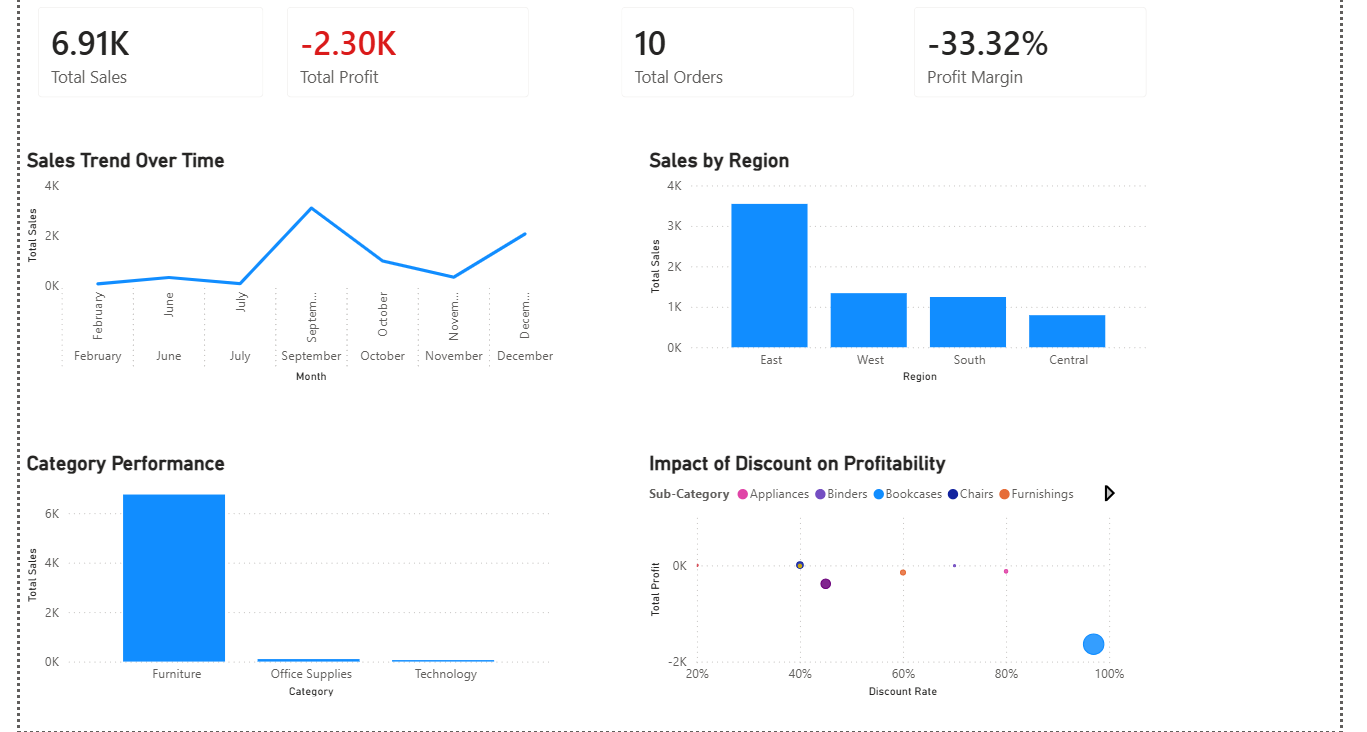

The dashboard page shown, as its layout file describes it:
{"tool":"powerbi","page":{"name":"Executive Summary","canvas":[1280,720],"ordinal":0},"visuals":[{"type":"cardVisual","fields":{"Data":["Sales.Total Sales"]},"box":[0,0,253,122],"z":0},{"type":"cardVisual","fields":{"Data":["Sales.Total Profit"]},"box":[242,0,269,122],"z":1},{"type":"cardVisual","fields":{"Data":["Sales.Total Orders","Sales.Total Orders"]},"box":[566,0,260,122],"z":2},{"type":"cardVisual","fields":{"Data":["Sales.Profit Margin"]},"box":[850,0,260,122],"z":3},{"type":"lineChart","title":"Sales Trend Over Time","fields":{"Category":["DateTable.Date.Variation.Date Hierarchy.Year","DateTable.Date.Variation.Date Hierarchy.Quarter","DateTable.Date.Variation.Date Hierarchy.Month","DateTable.Date.Variation.Date Hierarchy.Day","DateTable.Date.Variation.Date Hierarchy.Year","DateTable.Date.Variation.Date Hierarchy.Quarter","DateTable.Date.Variation.Date Hierarchy.Month","DateTable.Date.Variation.Date Hierarchy.Day"],"Y":["Sales.Total Sales"]},"box":[1,155,521,232],"z":4},{"type":"clusteredColumnChart","title":"Category Performance","fields":{"Category":["Sales.Category"],"Y":["Sales.Total Sales"]},"box":[1,448,521,243],"z":5},{"type":"clusteredColumnChart","title":" Sales by Region","fields":{"Category":["Sales.Region"],"Y":["Sales.Total Sales"]},"box":[605,155,494,232],"z":6},{"type":"scatterChart","title":" Impact of Discount on Profitability","fields":{"X":["Sum(Sales.Discount)"],"Y":["Sum(Sales.Profit)"],"Size":["Sales.Total Sales"],"Series":["Sales.Sub-Category"]},"box":[605,448,471,243],"z":7}]}

Visuals, with their boxes on the page's 1280x720 design canvas (x1, y1, x2, y2). These are canvas units, not pixel positions in the 1367x732 screenshot, which may show the page scaled, cropped or inside an application window:
cardVisual - Sales.Total Sales: 0:0:253:122
cardVisual - Sales.Total Profit: 242:0:511:122
cardVisual - Sales.Total Orders x Sales.Total Orders: 566:0:826:122
cardVisual - Sales.Profit Margin: 850:0:1110:122
"Sales Trend Over Time" lineChart: 1:155:522:387
"Category Performance" clusteredColumnChart: 1:448:522:691
" Sales by Region" clusteredColumnChart: 605:155:1099:387
" Impact of Discount on Profitability" scatterChart: 605:448:1076:691
